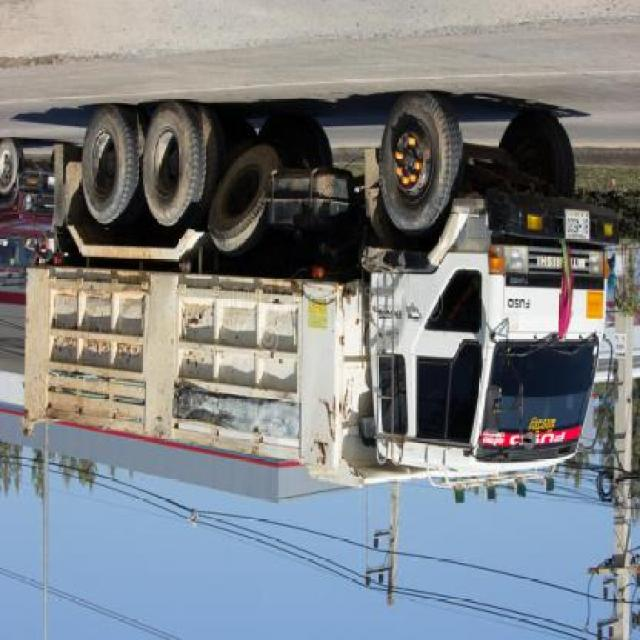truck: (27, 95, 630, 509)
